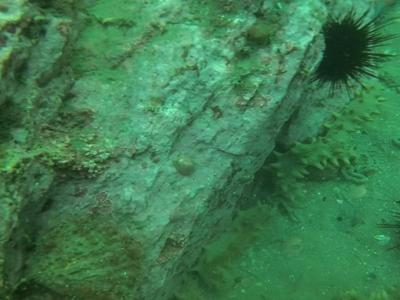holothurian: (310, 83, 382, 168), (197, 203, 273, 270), (269, 140, 332, 202)
urchin: (313, 6, 379, 89)
